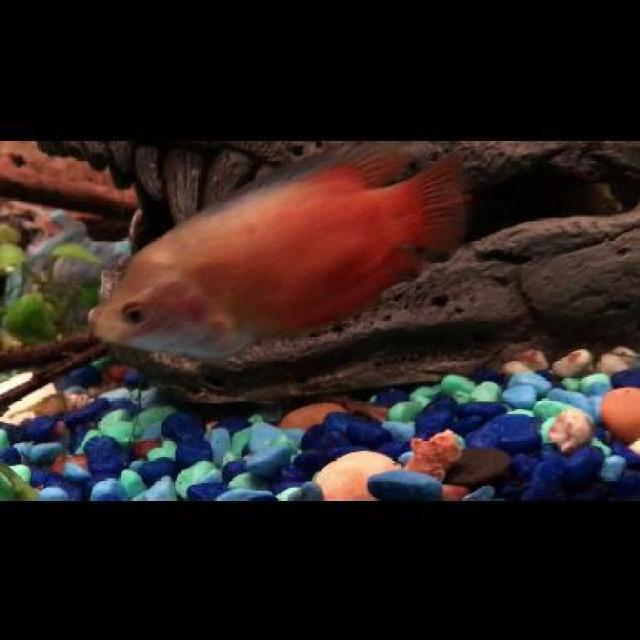Gourami: (86, 140, 477, 366)
